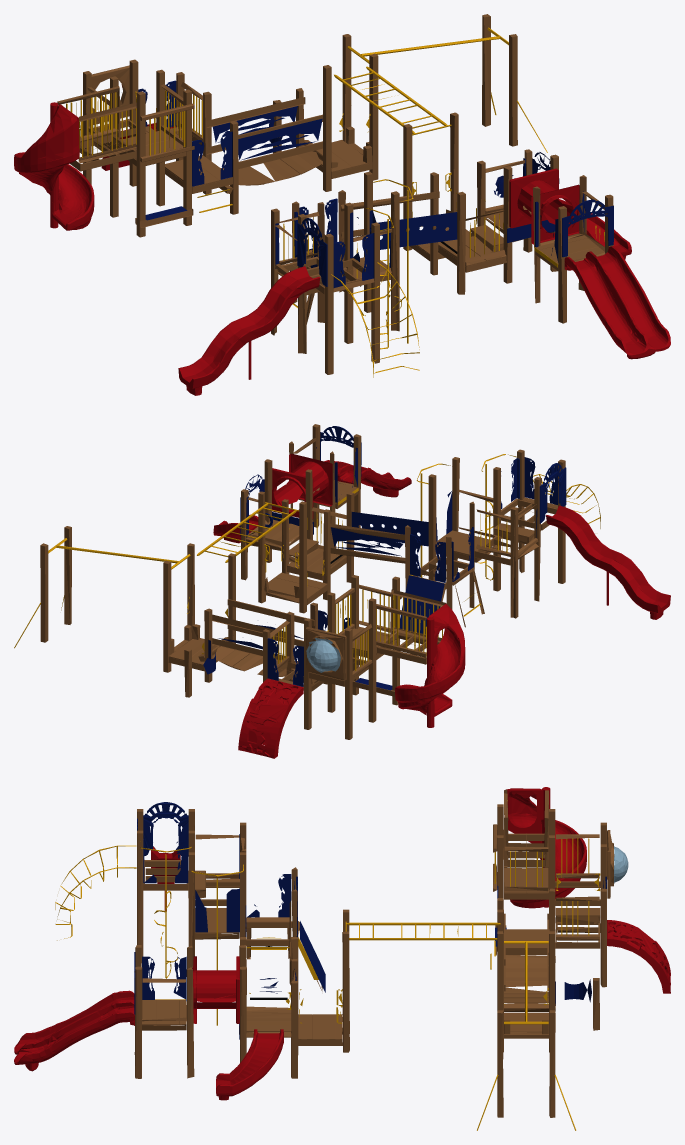
Rendered from lekplats.glb.
The picture shows the model from 3 angles, top to bottom: view 1: azimuth 30°, elevation 25°; view 2: azimuth 150°, elevation 25°; view 3: azimuth 270°, elevation 25°; orthographic projection. The views are drawn at different scales.
Parts seen in each view (by area): view 1: lekstallning; view 2: lekstallning; view 3: lekstallning.
Part boxes in pixels (box(x1,y1,x2,y2)): lekstallning: box(14, 14, 670, 395); lekstallning: box(14, 424, 670, 758); lekstallning: box(14, 787, 670, 1130).
Size of the model in its own units: 11.73 by 3.7 by 13.28.
